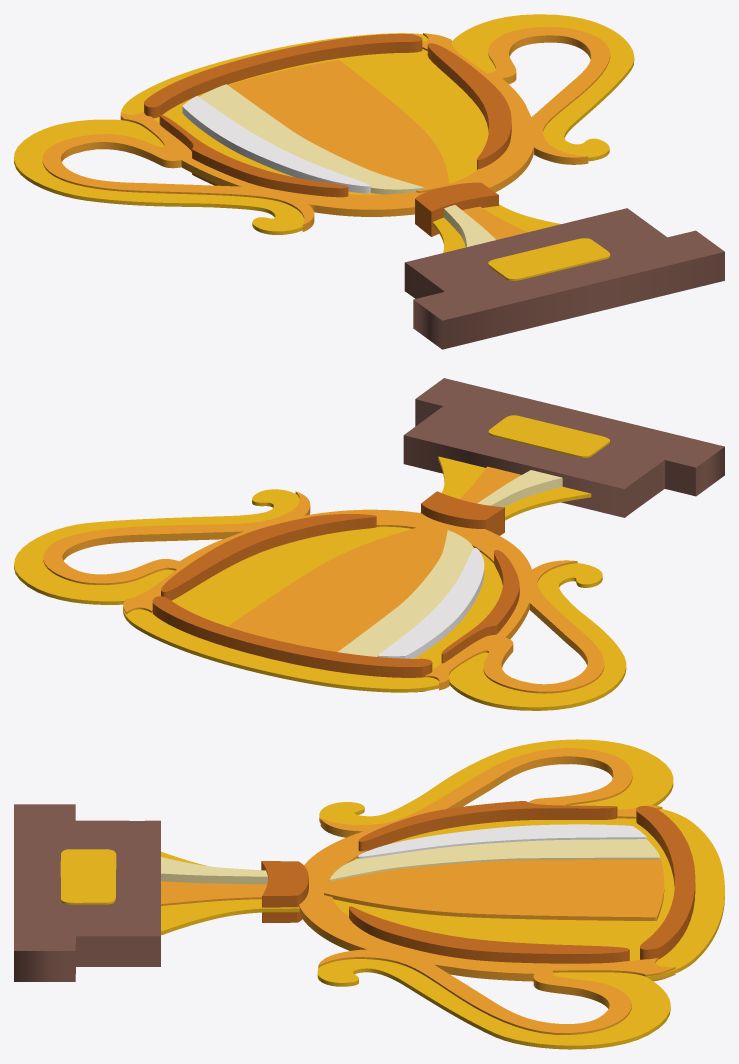
The model's file is emoji_u1f3c6.glb.
3 renders of one model, top to bottom at view 1: azimuth 30°, elevation 25°; view 2: azimuth 150°, elevation 25°; view 3: azimuth 270°, elevation 25°, orthographic. The views are drawn at different scales.
Visible parts, largest first — view 1: emoji_u1f3c6; view 2: emoji_u1f3c6; view 3: emoji_u1f3c6.
Boxes of the visible parts, x1,y1,x2,y2 form: emoji_u1f3c6: (14,14,724,349); emoji_u1f3c6: (14,378,724,710); emoji_u1f3c6: (14,739,724,1049).
Bounding box in the file's own units: 0.0341 × 0.0018 × 0.0334.
